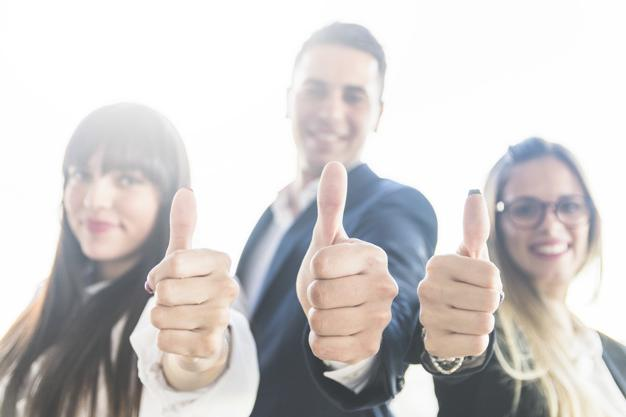thumbsup: (306, 160, 400, 361), (144, 187, 239, 358), (418, 189, 501, 357)
